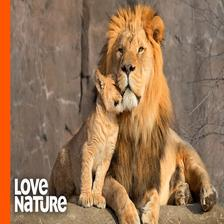Lion: (67, 6, 224, 224)
